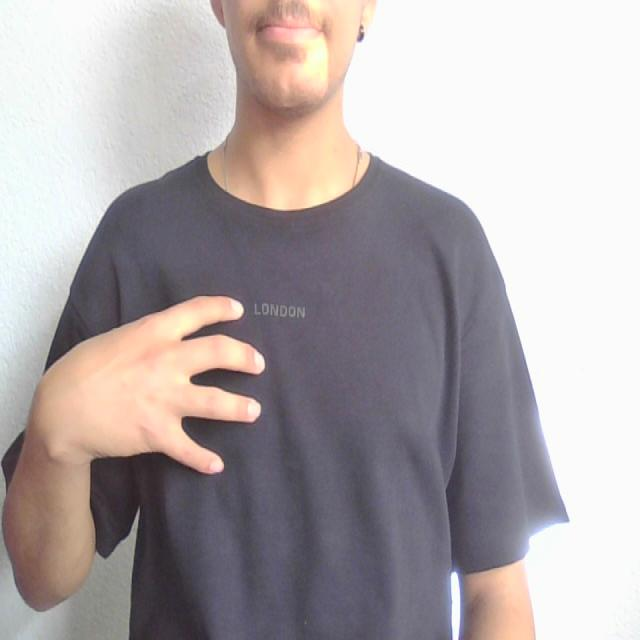Anne: (12, 288, 509, 494)
